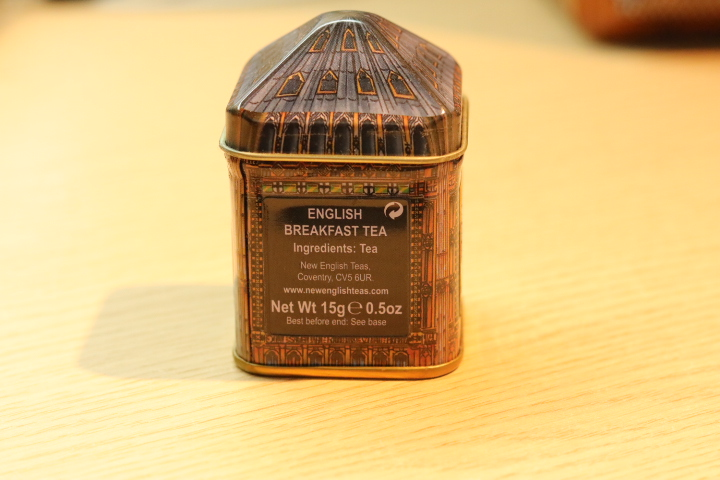Big Ben: (193, 5, 528, 409)
